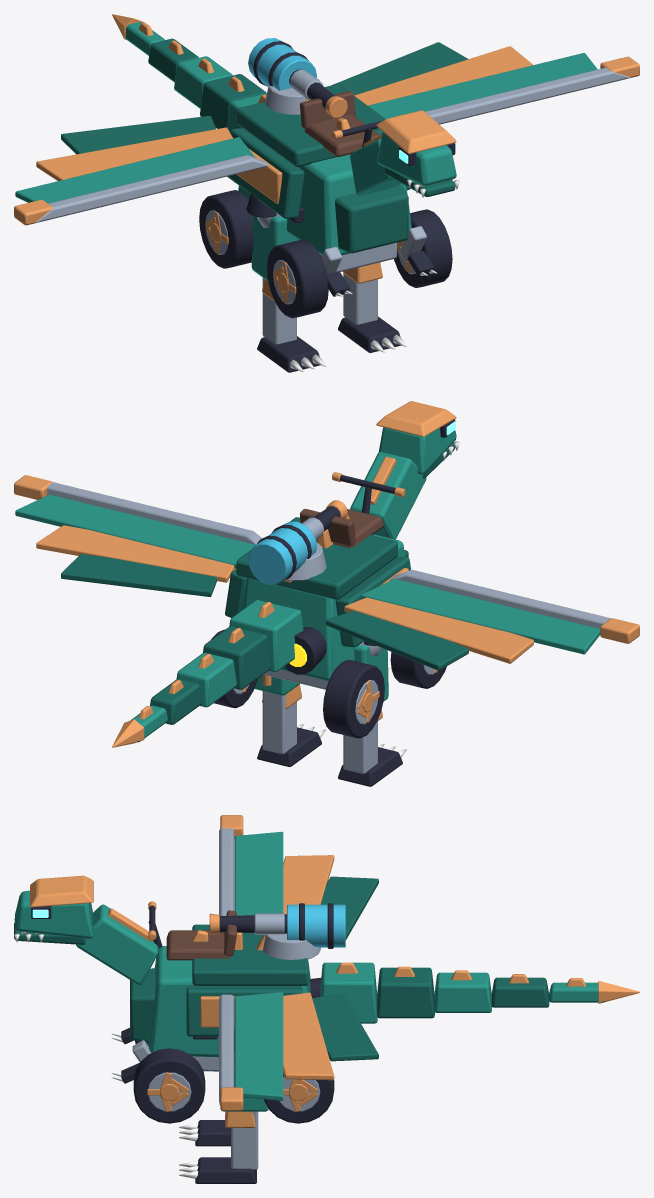
Rendered from mecha_raptor.glb.
3 views of the same model, one above another, from view 1: azimuth 30°, elevation 25°; view 2: azimuth 150°, elevation 25°; view 3: azimuth 270°, elevation 25° (orthographic). The views are drawn at different scales.
Parts seen in each view (by area): view 1: WingL, WingR, TorsoHull, ChestProw, DorsalCowl, WingL_Spar, WingR_Spar, WheelFL_Tire, WheelRL_Tire, WingPod_WingL, Cranium, WheelFR_Tire (+22 smaller); view 2: WingL, WingR, DorsalCowl, TorsoHull, WheelRL_Tire, NeckArmor, WingR_Spar, WingL_Spar, TailSegMesh_0, WaterTank, TailSegMesh_1, Cranium (+20 smaller); view 3: WingR, WingL, TorsoHull, DorsalCowl, NeckArmor, WheelFR_Tire, TailSegMesh_1, TailSegMesh_0, Cranium, TailSegMesh_2, WaterTank, WingPod_WingR (+19 smaller).
Part boxes in pixels (x1,y1,x2,y2): WingL: [15, 115, 255, 203]; WingR: [331, 42, 597, 118]; TorsoHull: [238, 154, 411, 255]; ChestProw: [335, 184, 408, 253]; DorsalCowl: [236, 84, 385, 166]; WingL_Spar: [35, 155, 269, 222]; WingR_Spar: [425, 67, 630, 124]; WheelFL_Tire: [267, 239, 328, 318]; WheelRL_Tire: [199, 190, 253, 268]; WingPod_WingL: [227, 128, 304, 218]; Cranium: [377, 132, 456, 185]; WheelFR_Tire: [394, 209, 452, 287]; WingL: [326, 579, 600, 670]; WingR: [15, 494, 254, 596]; DorsalCowl: [236, 517, 397, 599]; TorsoHull: [243, 534, 404, 680]; WheelRL_Tire: [323, 659, 384, 738]; NeckArmor: [350, 452, 426, 539]; WingR_Spar: [47, 482, 262, 544]; WingL_Spar: [390, 569, 610, 628]; TailSegMesh_0: [229, 600, 303, 672]; WaterTank: [248, 521, 316, 584]; TailSegMesh_1: [203, 626, 271, 689]; Cranium: [378, 427, 456, 474]; WingR: [234, 992, 378, 1100]; WingL: [234, 831, 378, 940]; TorsoHull: [148, 946, 310, 1057]; DorsalCowl: [192, 924, 308, 985]; NeckArmor: [76, 904, 158, 985]; WheelFR_Tire: [133, 1048, 205, 1123]; TailSegMesh_1: [377, 967, 434, 1018]; TailSegMesh_0: [320, 962, 377, 1023]; Cranium: [15, 890, 93, 938]; TailSegMesh_2: [434, 972, 491, 1012]; WaterTank: [287, 904, 345, 947]; WingPod_WingR: [186, 986, 302, 1036].
Bounding box in the file's own units: 9.45 × 4.22 × 8.74.
